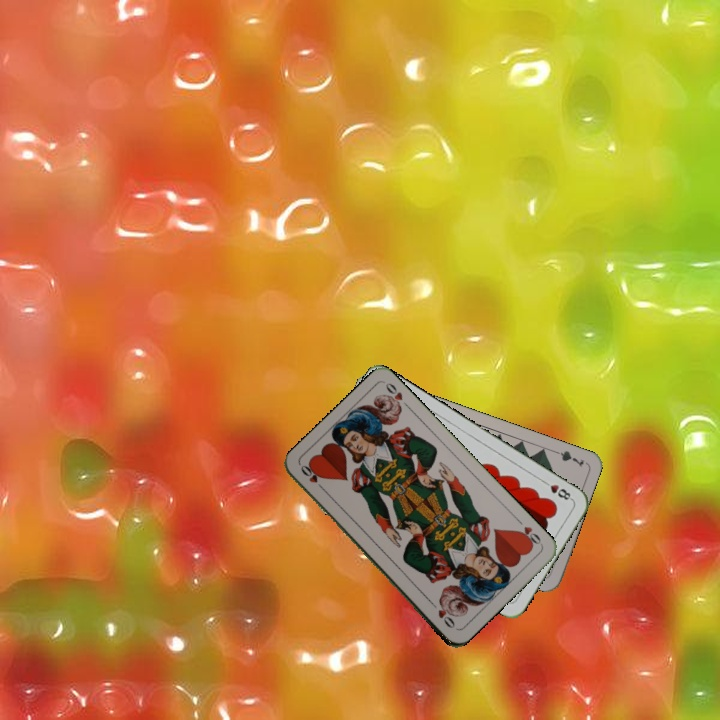G7: (548, 446, 587, 470)
H8: (538, 476, 575, 503)
HO: (513, 515, 545, 550), (296, 461, 328, 494)
